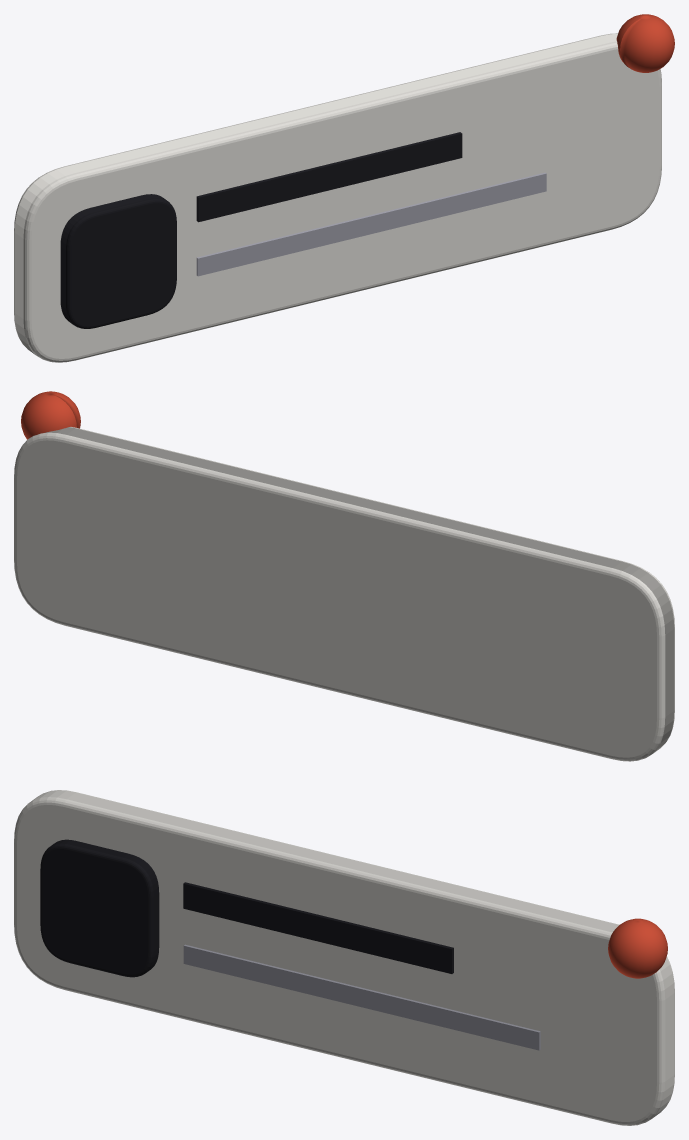
File: notification.glb
3 renders of one model, top to bottom at view 1: azimuth 30°, elevation 25°; view 2: azimuth 150°, elevation 25°; view 3: azimuth 330°, elevation 25°, orthographic.
Visible parts, largest first — view 1: card, icon, title, body, badge; view 2: card, badge; view 3: card, icon, title, body, badge.
Boxes of the visible parts, left/top/right/bottom form: card: left=14, top=33, right=661, bottom=362; icon: left=60, top=194, right=176, bottom=328; title: left=196, top=132, right=462, bottom=222; body: left=196, top=172, right=546, bottom=276; badge: left=616, top=14, right=674, bottom=72; card: left=14, top=427, right=674, bottom=761; badge: left=21, top=391, right=80, bottom=439; card: left=14, top=790, right=674, bottom=1125; icon: left=40, top=839, right=159, bottom=977; title: left=183, top=882, right=453, bottom=973; body: left=183, top=944, right=540, bottom=1050; badge: left=608, top=918, right=667, bottom=978.
Size of the model in its own units: 1.51 by 0.47 by 0.13.
